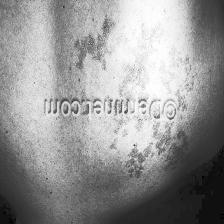Potentially Malignant Skin Tumors: (72, 19, 190, 99), (116, 119, 190, 178)
